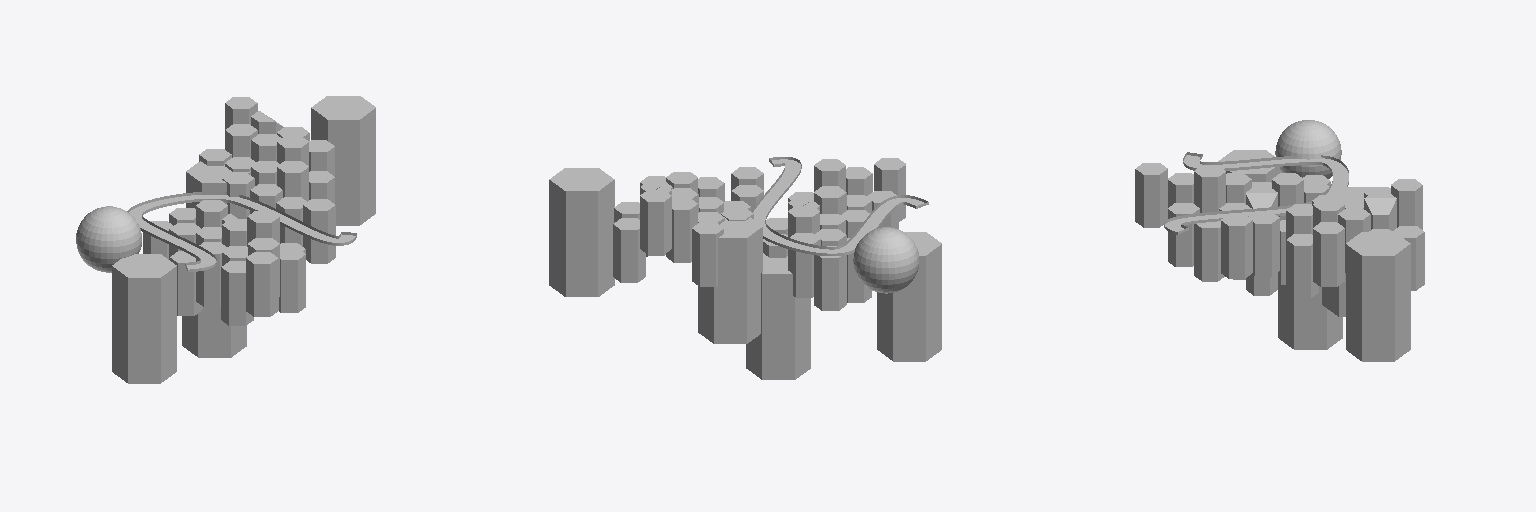
The model's file is hexagon.obj.
3 views of the same model, side by side, from view 1: azimuth 30°, elevation 25°; view 2: azimuth 150°, elevation 25°; view 3: azimuth 270°, elevation 25° (orthographic).
Parts seen in each view (by area): view 1: Cylinder; view 2: Cylinder; view 3: Cylinder.
Part boxes in pixels (bbox=[...]): Cylinder: bbox=[76, 96, 375, 383]; Cylinder: bbox=[549, 157, 941, 379]; Cylinder: bbox=[1135, 120, 1424, 361].
Bounding box in the file's own units: 457 × 256 × 355.